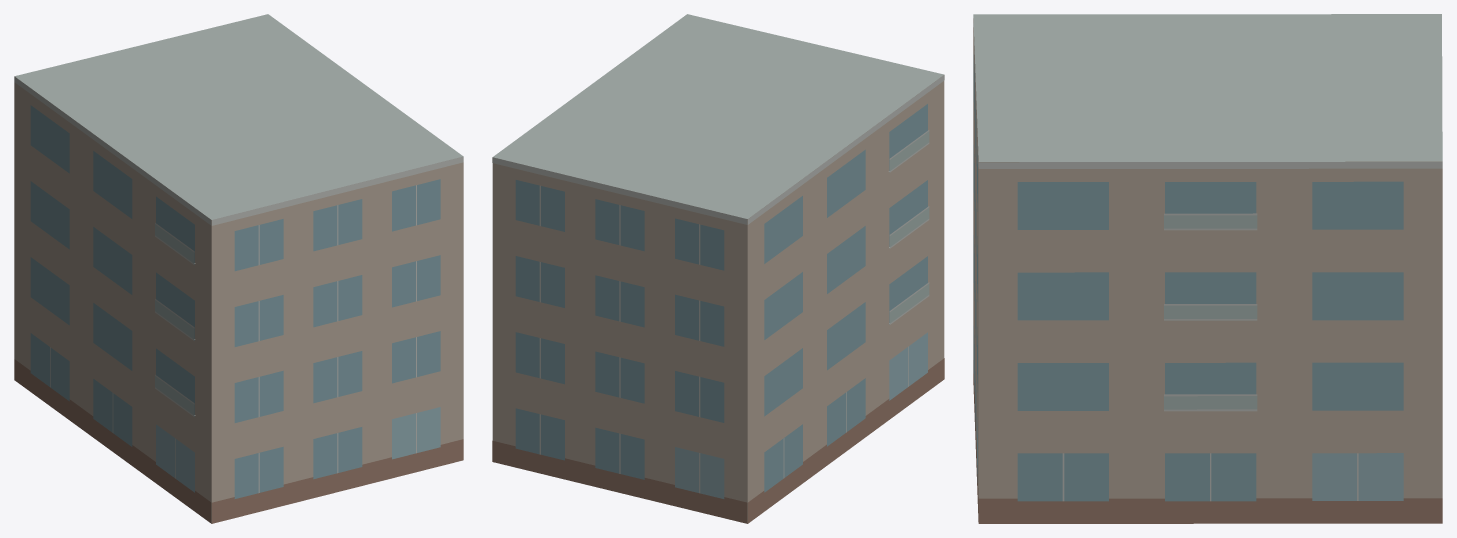
Rendered from survey-upis-32706651.glb.
3 views of the same model, side by side, from view 1: azimuth 30°, elevation 25°; view 2: azimuth 150°, elevation 25°; view 3: azimuth 270°, elevation 25° (orthographic). The views are drawn at different scales.
Visible parts, largest first — view 1: survey-upis-32706651.tmp; view 2: survey-upis-32706651.tmp; view 3: survey-upis-32706651.tmp.
Boxes of the visible parts, x1,y1,x2,y2 form: survey-upis-32706651.tmp: (14,14,463,523); survey-upis-32706651.tmp: (492,14,944,523); survey-upis-32706651.tmp: (973,14,1442,523).
Bounding box in the file's own units: 11.11 × 12.6 × 14.82.
